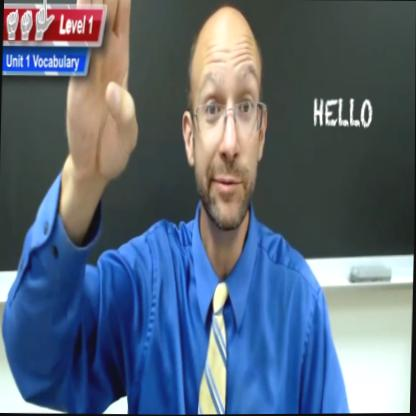Hello: (18, 0, 271, 303)
